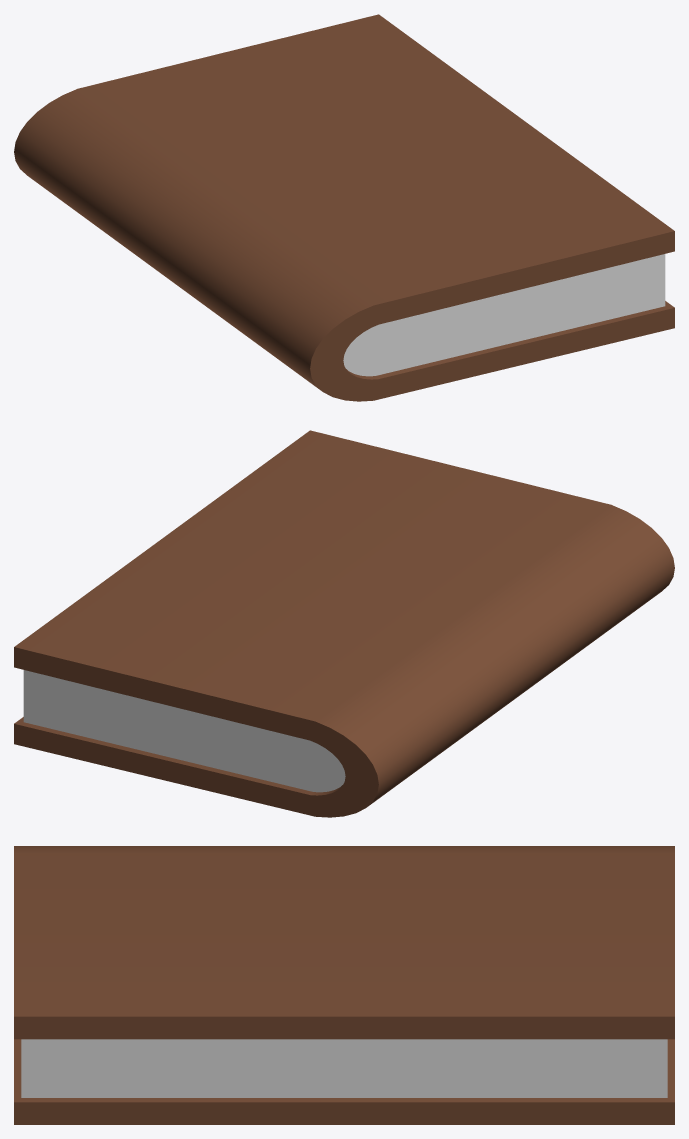
File: Book.glb
3 renders of one model, top to bottom at view 1: azimuth 30°, elevation 25°; view 2: azimuth 150°, elevation 25°; view 3: azimuth 270°, elevation 25°, orthographic. The views are drawn at different scales.
Visible parts, largest first — view 1: Cylinder; view 2: Cylinder; view 3: Cylinder.
Part boxes in pixels (<box>): Cylinder: <box>14,14,674,401</box>; Cylinder: <box>14,430,674,817</box>; Cylinder: <box>14,846,674,1124</box>.
Size of the model in its own units: 0.4633 by 0.1179 by 0.651.
